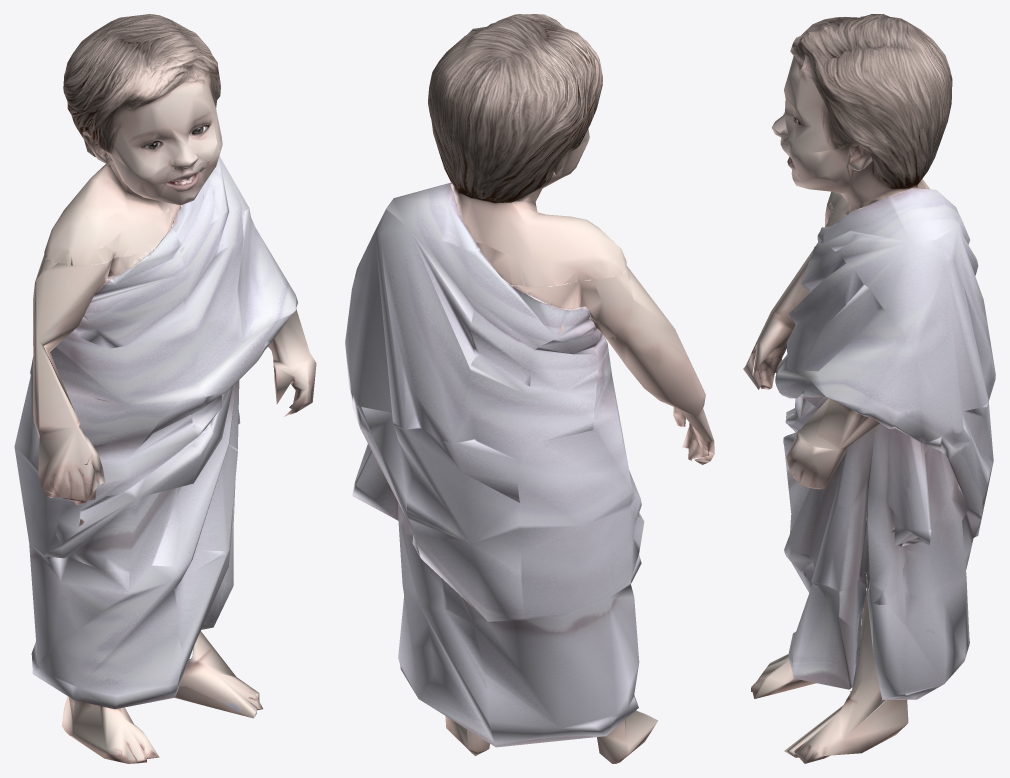
Rendered from boy.glb.
3 views of the same model, side by side, from view 1: azimuth 30°, elevation 25°; view 2: azimuth 150°, elevation 25°; view 3: azimuth 270°, elevation 25° (orthographic). The views are drawn at different scales.
Parts seen in each view (by area): view 1: cloth, skin; view 2: cloth, skin; view 3: cloth, skin.
Boxes of the visible parts, x1=… form: cloth: x1=14, y1=143, x2=297, y2=709; skin: x1=33, y1=14, x2=316, y2=763; cloth: x1=345, y1=182, x2=644, y2=747; skin: x1=428, y1=14, x2=714, y2=763; cloth: x1=775, y1=188, x2=995, y2=700; skin: x1=743, y1=14, x2=952, y2=763.
Bounding box in the file's own units: 0.4277 × 0.9474 × 0.3094.
Materials: 2 (2 with a texture image).
